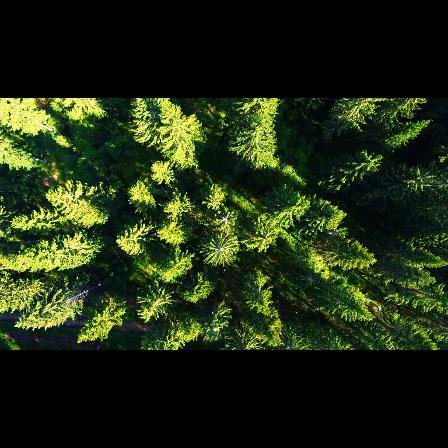Sick: (201, 231, 240, 266), (294, 270, 326, 290), (214, 211, 234, 228)
